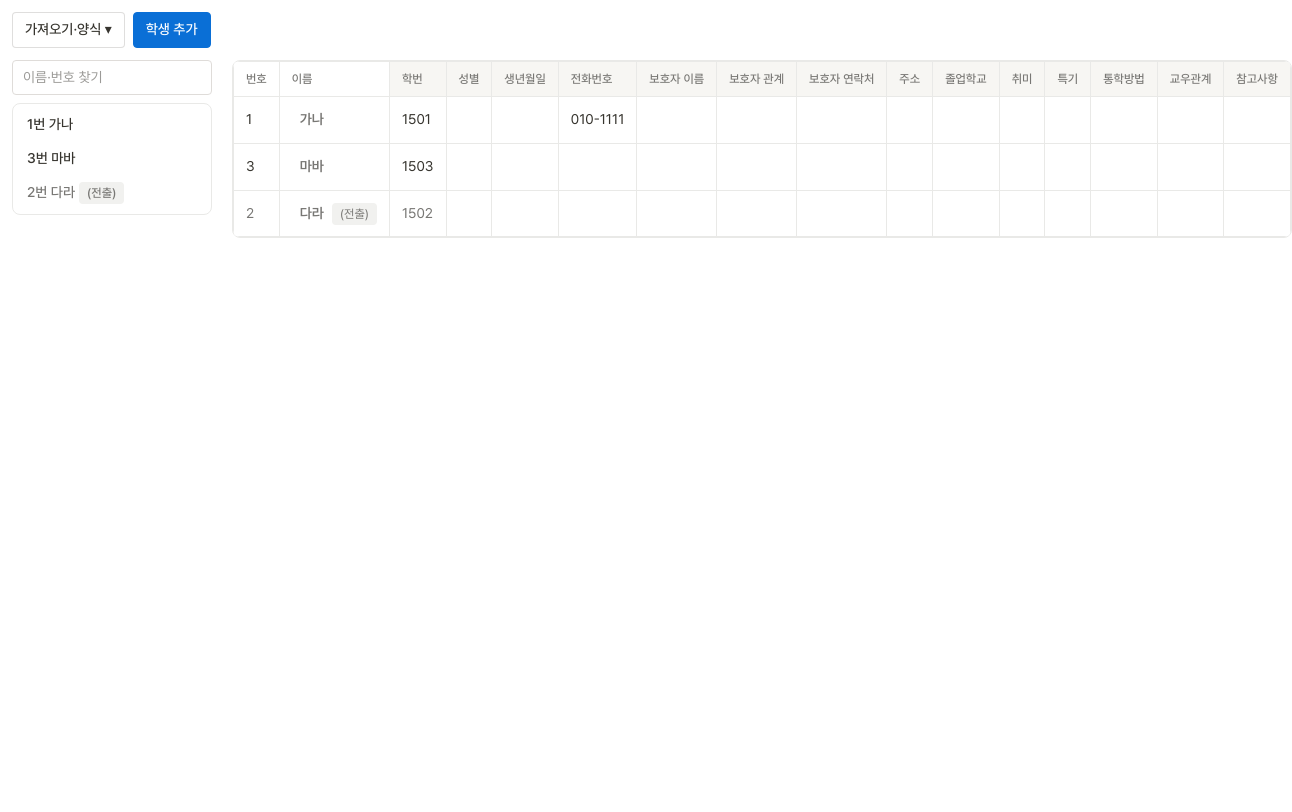
it: 찾기 칸에 "다라" → 목록 1명, 누르면 그 학생 상세
In the search field named "학생 찾기": {"x": 112, "y": 78} x1=12 y1=60 x2=212 y2=95, type "다라"
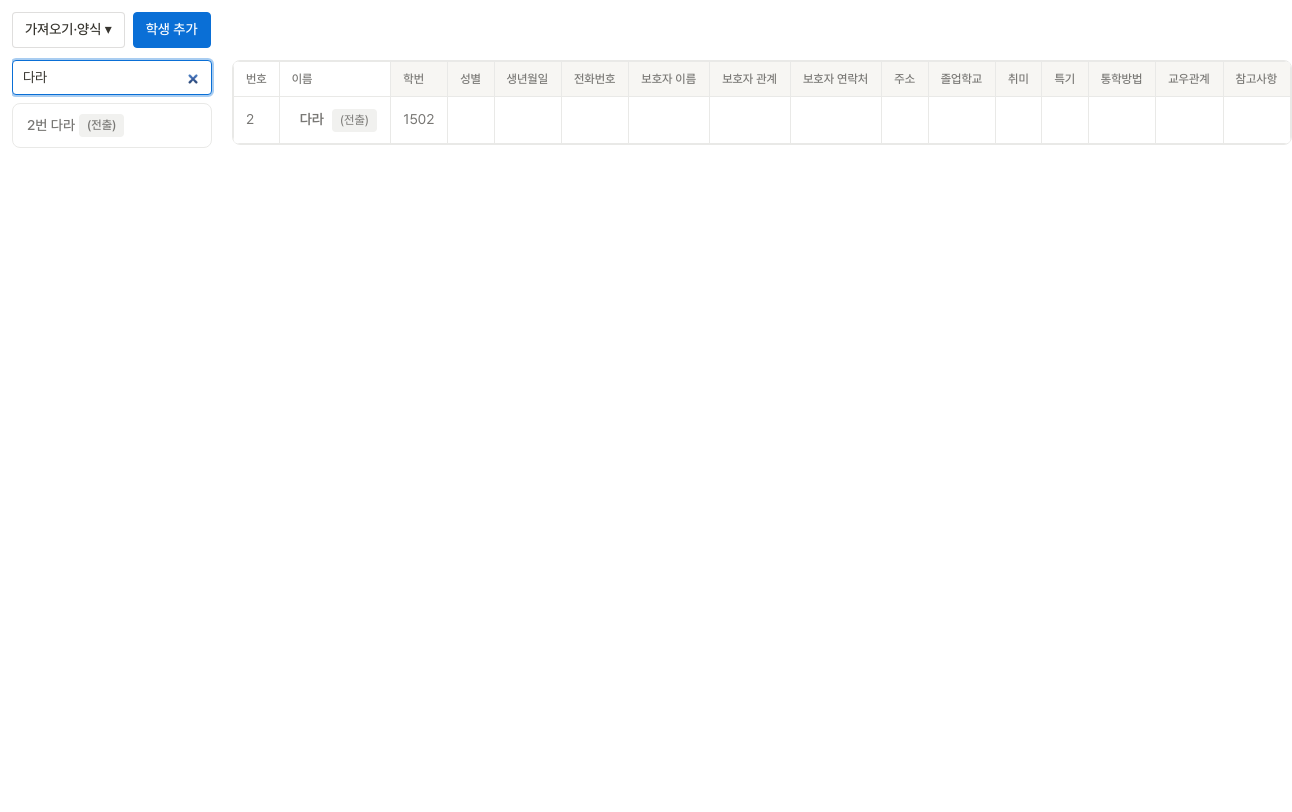
Click the button "2번 다라 (전출)": {"x": 112, "y": 126} x1=17 y1=108 x2=207 y2=143
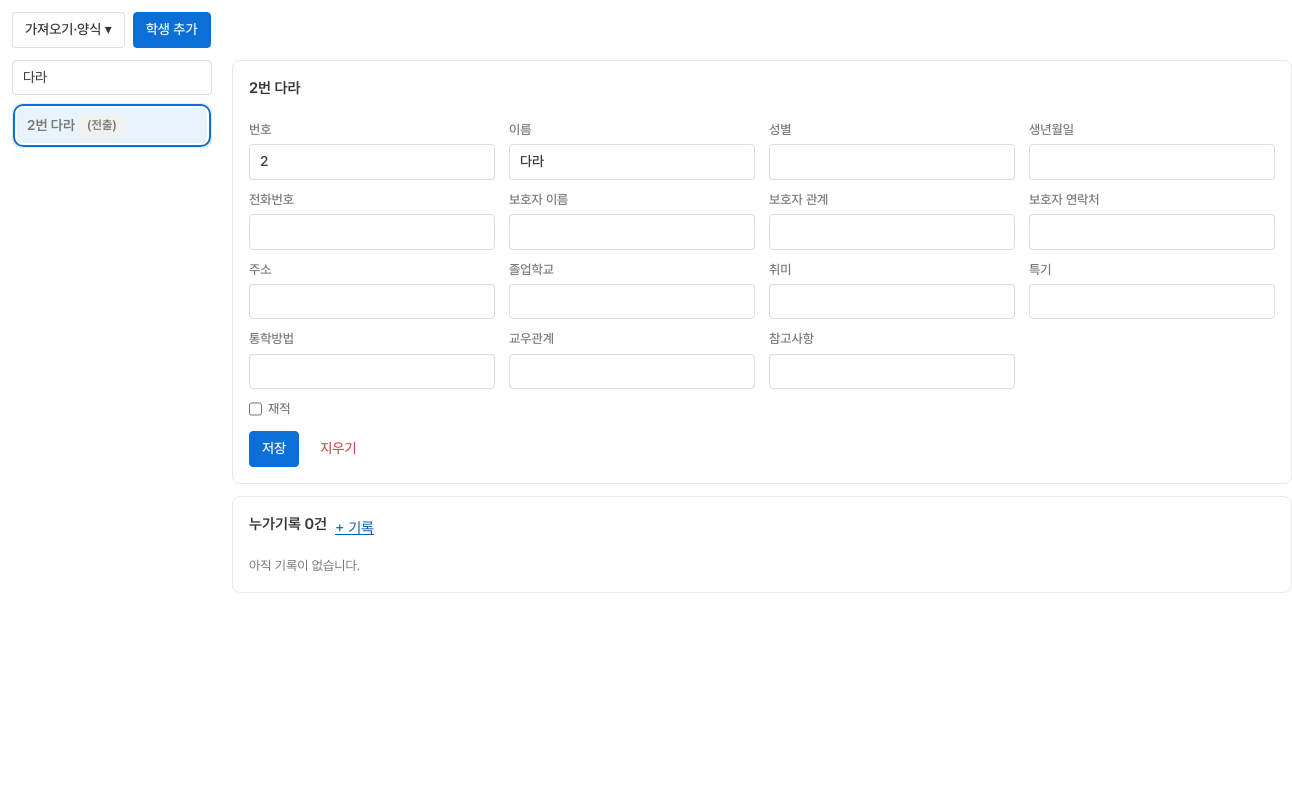
Expected: the heading "2번 다라" is shown, x1=249 y1=77 x2=300 y2=100
